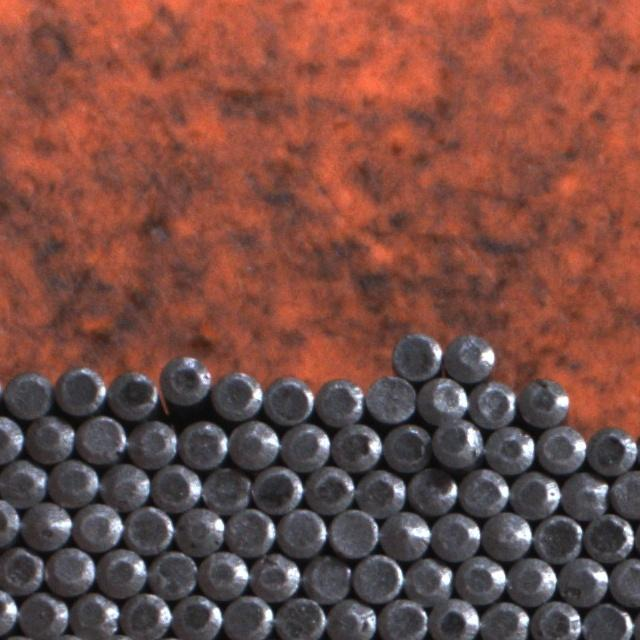tool: (158, 352, 210, 408), (211, 368, 263, 421), (363, 372, 416, 423), (107, 370, 158, 422), (532, 512, 582, 564), (584, 512, 634, 564), (229, 419, 279, 470), (280, 420, 330, 471), (96, 547, 146, 598), (54, 365, 104, 416), (390, 330, 441, 380), (3, 368, 52, 420), (128, 417, 178, 467), (558, 555, 608, 605), (482, 510, 532, 560), (178, 418, 228, 468), (330, 507, 380, 557), (123, 503, 173, 553), (44, 545, 94, 595), (507, 468, 557, 518), (262, 376, 312, 426), (331, 422, 381, 472), (252, 466, 302, 516), (69, 590, 119, 640), (447, 331, 497, 381), (313, 376, 362, 427), (381, 509, 430, 560), (76, 414, 126, 463), (353, 552, 402, 602), (485, 424, 534, 474), (457, 466, 506, 516), (430, 511, 479, 561), (507, 554, 556, 604), (148, 549, 198, 598), (455, 553, 504, 603), (536, 423, 585, 473), (382, 422, 431, 472), (21, 501, 71, 550), (407, 464, 456, 514), (432, 418, 482, 467), (518, 379, 568, 428), (279, 506, 328, 555), (302, 552, 351, 601), (250, 551, 299, 600), (559, 470, 608, 519), (25, 413, 74, 462), (586, 427, 635, 476), (305, 465, 354, 514), (49, 457, 99, 505), (225, 506, 275, 554), (202, 464, 250, 514), (18, 590, 68, 638), (151, 462, 199, 511), (404, 554, 452, 603), (73, 502, 122, 550), (176, 504, 224, 553), (199, 550, 248, 598), (355, 468, 404, 516), (420, 375, 468, 424), (121, 591, 169, 640), (274, 593, 324, 640), (172, 592, 220, 640), (468, 378, 516, 426), (222, 593, 271, 640), (102, 461, 150, 508), (378, 596, 428, 640), (428, 596, 478, 640), (0, 458, 47, 504), (0, 544, 43, 594), (530, 600, 582, 640), (326, 597, 374, 640), (480, 600, 530, 640), (583, 601, 633, 640), (609, 556, 640, 606), (609, 468, 640, 516), (0, 413, 23, 463), (0, 496, 19, 546)
